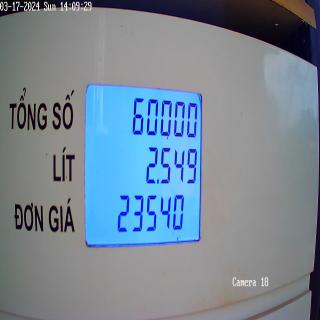screen: (82, 76, 205, 248)
